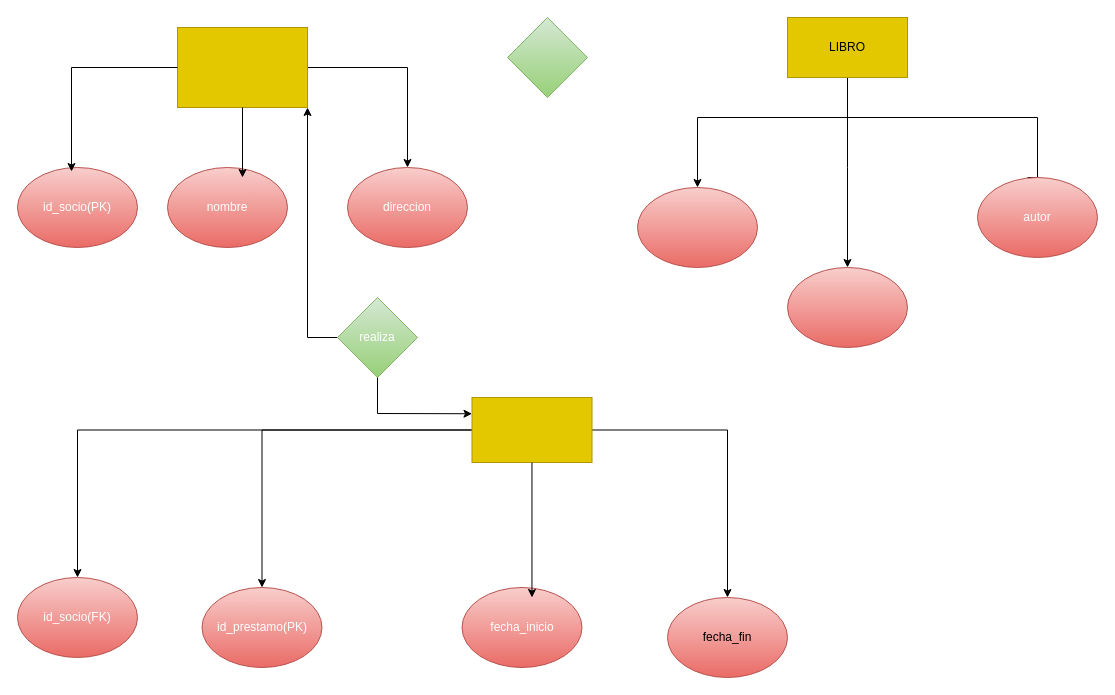
This 1115x695 diagram has some shape labels left out. Here are the shapes that lost their labels. From the top down, the centre of each, then its label:
At (242,67): "SOCIO".
At (697,227): "id_libro(PK)".
At (847,307): "titulo".
At (531,429): "PRESTAMO".
